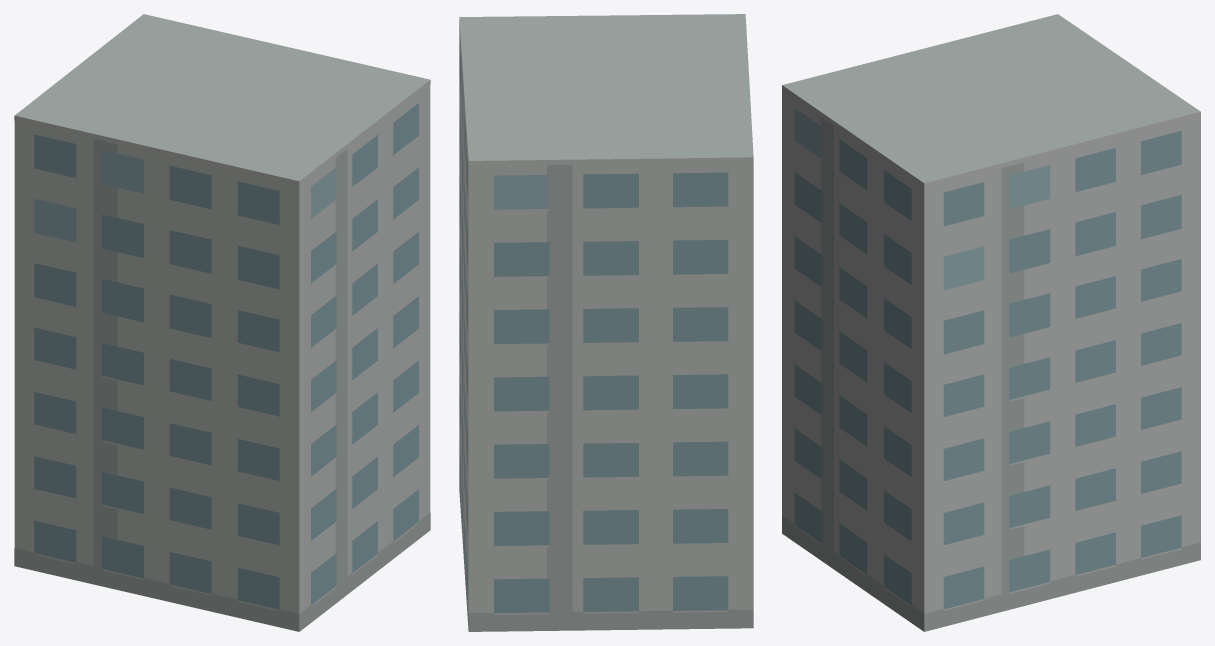
Rendered from survey-upis-32851025.glb.
3 views of the same model, side by side, from view 1: azimuth 30°, elevation 25°; view 2: azimuth 150°, elevation 25°; view 3: azimuth 270°, elevation 25° (orthographic). The views are drawn at different scales.
Parts seen in each view (by area): view 1: survey-upis-32851025.tmp; view 2: survey-upis-32851025.tmp; view 3: survey-upis-32851025.tmp.
Part boxes in pixels (x1=…): survey-upis-32851025.tmp: x1=14, y1=14, x2=430, y2=631; survey-upis-32851025.tmp: x1=459, y1=14, x2=753, y2=631; survey-upis-32851025.tmp: x1=782, y1=14, x2=1200, y2=631.
Size of the model in its own units: 17.87 by 22.05 by 18.67.
